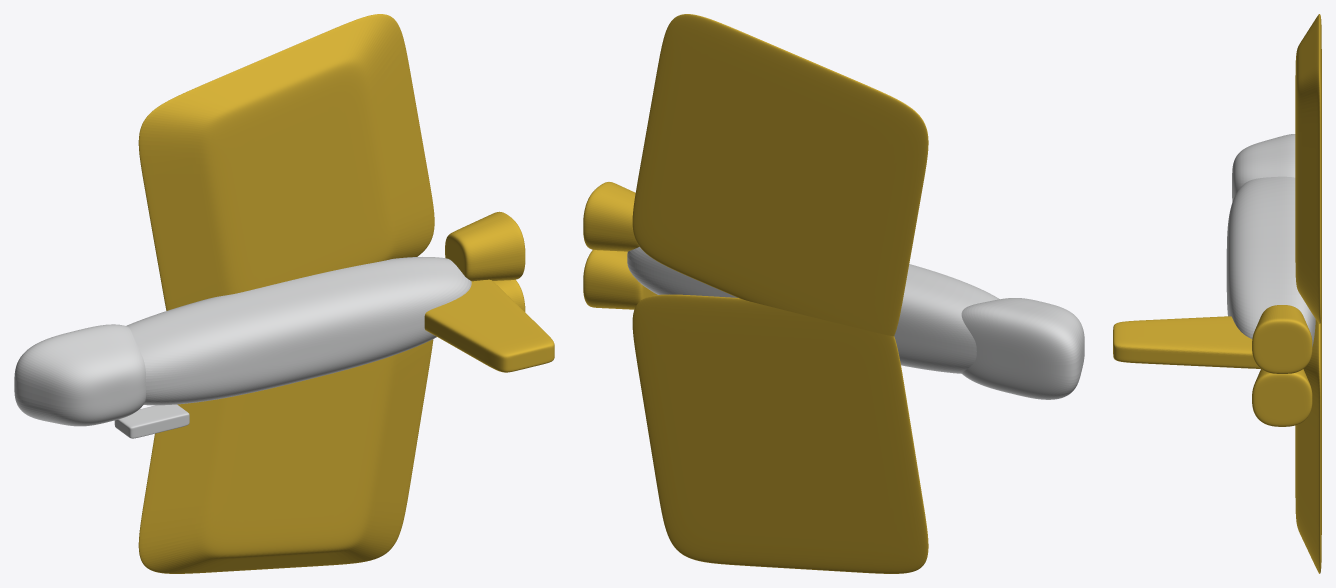
The model's file is space_shuttle_sq.glb.
3 renders of one model, left to right at view 1: azimuth 30°, elevation 25°; view 2: azimuth 150°, elevation 25°; view 3: azimuth 270°, elevation 25°, orthographic. The views are drawn at different scales.
Visible parts, largest first — view 1: superquadric_2, superquadric_3, superquadric_0, superquadric_1, superquadric_4, superquadric_6, superquadric_5; view 2: superquadric_2, superquadric_3, superquadric_1, superquadric_0, superquadric_6, superquadric_7; view 3: superquadric_0, superquadric_2, superquadric_4, superquadric_3, superquadric_6, superquadric_7, superquadric_1.
Boxes of the visible parts, x1,y1,x2,y2 form: superquadric_2: (138, 14, 434, 310); superquadric_3: (138, 339, 433, 573); superquadric_0: (126, 257, 471, 405); superquadric_1: (14, 324, 145, 426); superquadric_4: (424, 279, 554, 372); superquadric_6: (445, 211, 525, 281); superquadric_5: (114, 404, 189, 438); superquadric_2: (632, 14, 928, 336); superquadric_3: (632, 294, 928, 573); superquadric_1: (961, 298, 1084, 399); superquadric_0: (627, 247, 999, 373); superquadric_6: (583, 182, 639, 251); superquadric_7: (583, 249, 657, 309); superquadric_0: (1226, 176, 1315, 346); superquadric_2: (1295, 14, 1321, 323); superquadric_4: (1113, 316, 1260, 368); superquadric_3: (1295, 289, 1321, 573); superquadric_6: (1252, 305, 1312, 373); superquadric_7: (1252, 369, 1312, 426); superquadric_1: (1232, 134, 1295, 201).
Bounding box in the file's own units: 0.9346 × 1 × 0.3802.
